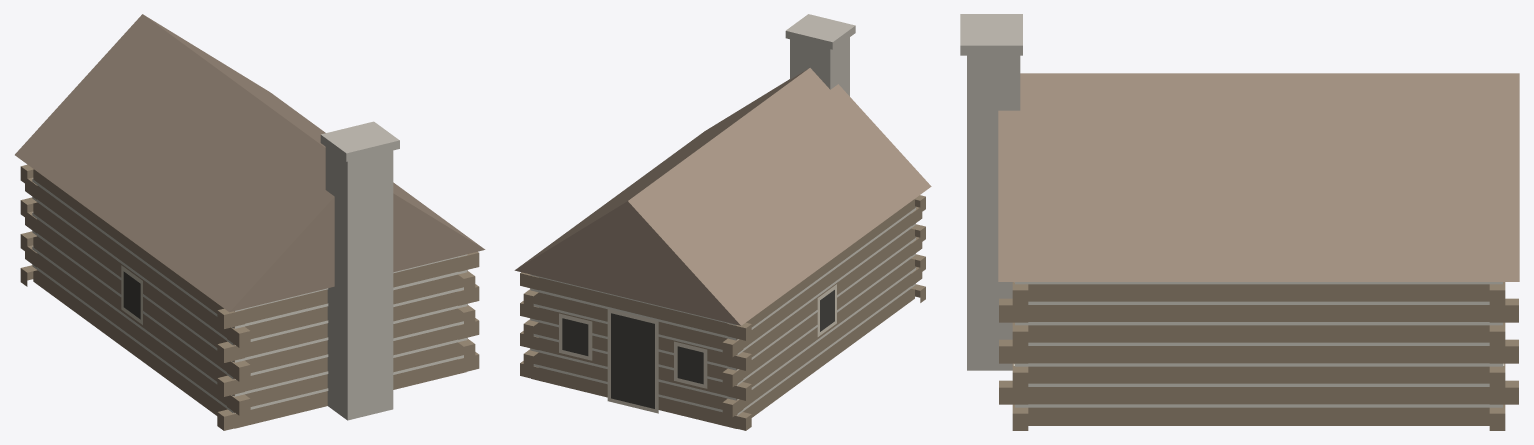
File: recon_1835_west_049__inferred_1835.glb
3 views of the same model, side by side, from view 1: azimuth 30°, elevation 25°; view 2: azimuth 150°, elevation 25°; view 3: azimuth 270°, elevation 25° (orthographic). The views are drawn at different scales.
Parts seen in each view (by area): view 1: recon_1835_west_049__inferred_1835; view 2: recon_1835_west_049__inferred_1835; view 3: recon_1835_west_049__inferred_1835.
Part boxes in pixels (x1=…): recon_1835_west_049__inferred_1835: x1=15, y1=14, x2=485, y2=430; recon_1835_west_049__inferred_1835: x1=514, y1=14, x2=931, y2=430; recon_1835_west_049__inferred_1835: x1=960, y1=14, x2=1519, y2=430.
Size of the model in its own units: 5.38 by 5.48 by 8.39.
